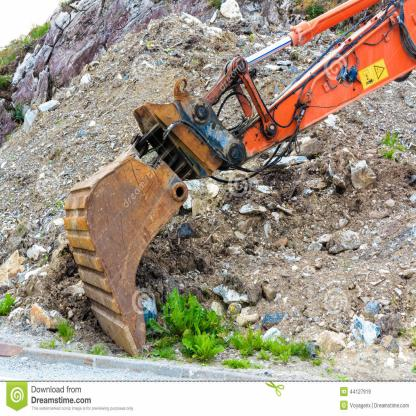excavator: (47, 4, 413, 359)
